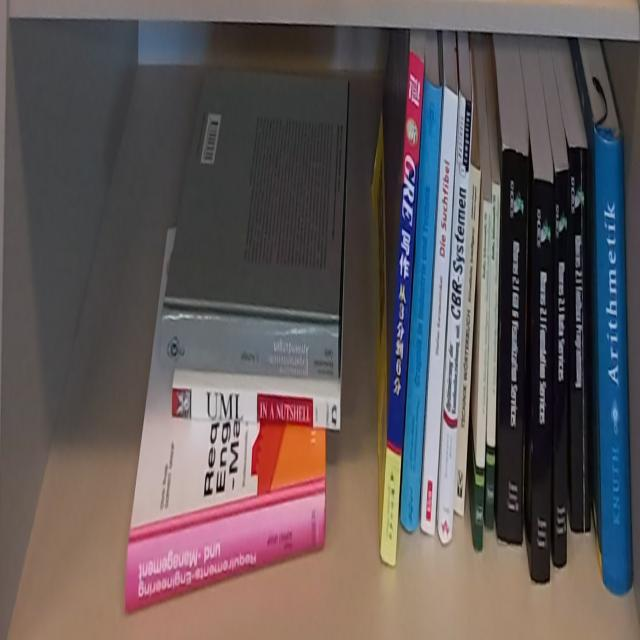Book Spine: (125, 478, 325, 614), (381, 52, 424, 570), (401, 81, 442, 532), (595, 133, 633, 597), (420, 91, 458, 537), (437, 94, 473, 544), (498, 153, 529, 545), (160, 318, 340, 379), (454, 168, 482, 519), (532, 183, 553, 583), (173, 387, 341, 436), (571, 149, 591, 536), (474, 204, 493, 556), (554, 170, 570, 571), (485, 184, 502, 533)
